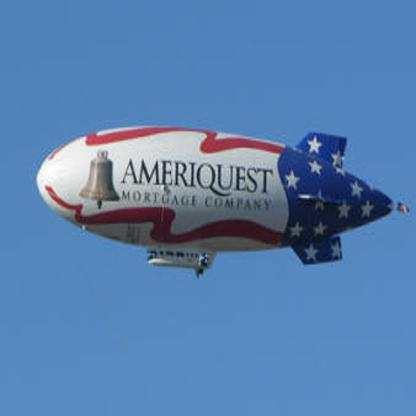Airship: (29, 122, 409, 281)
